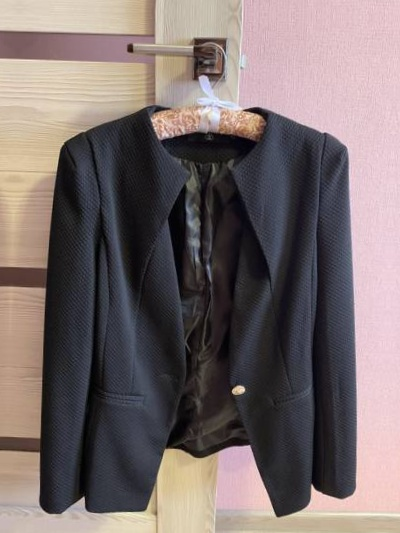Blazer: (17, 82, 377, 527), (0, 71, 4, 516)
